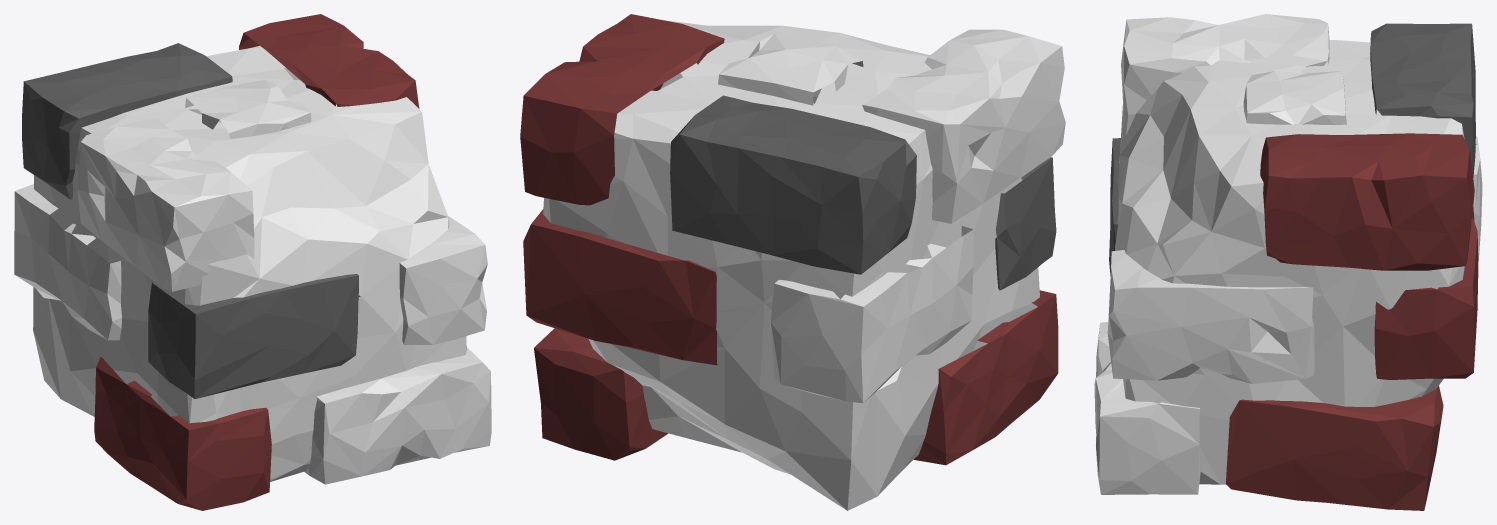
File: brickblock_2_broken.fbx
3 renders of one model, left to right at view 1: azimuth 30°, elevation 25°; view 2: azimuth 150°, elevation 25°; view 3: azimuth 270°, elevation 25°, orthographic. The views are drawn at different scales.
Parts seen in each view (by area): view 1: brick_01_lp.015; view 2: brick_01_lp.015; view 3: brick_01_lp.015.
Boxes of the visible parts, x1,y1,x2,y2 form: brick_01_lp.015: (14,14,491,510); brick_01_lp.015: (520,14,1065,510); brick_01_lp.015: (1094,14,1482,510).
Bounding box in the file's own units: 1.15 × 1.16 × 1.13.
